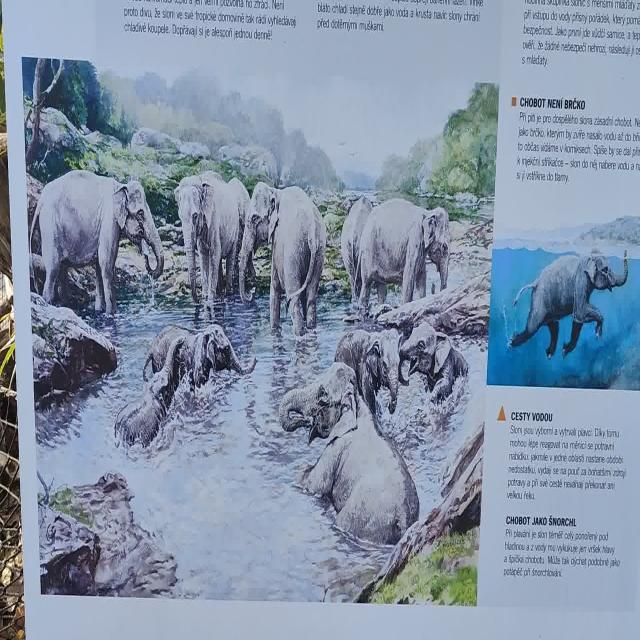elephant: (279, 362, 420, 546), (29, 170, 165, 314), (508, 247, 628, 360), (240, 182, 326, 336), (353, 198, 451, 311), (174, 175, 240, 304), (114, 336, 185, 448), (143, 322, 258, 388), (398, 321, 469, 406), (334, 328, 403, 414), (341, 196, 372, 302)
